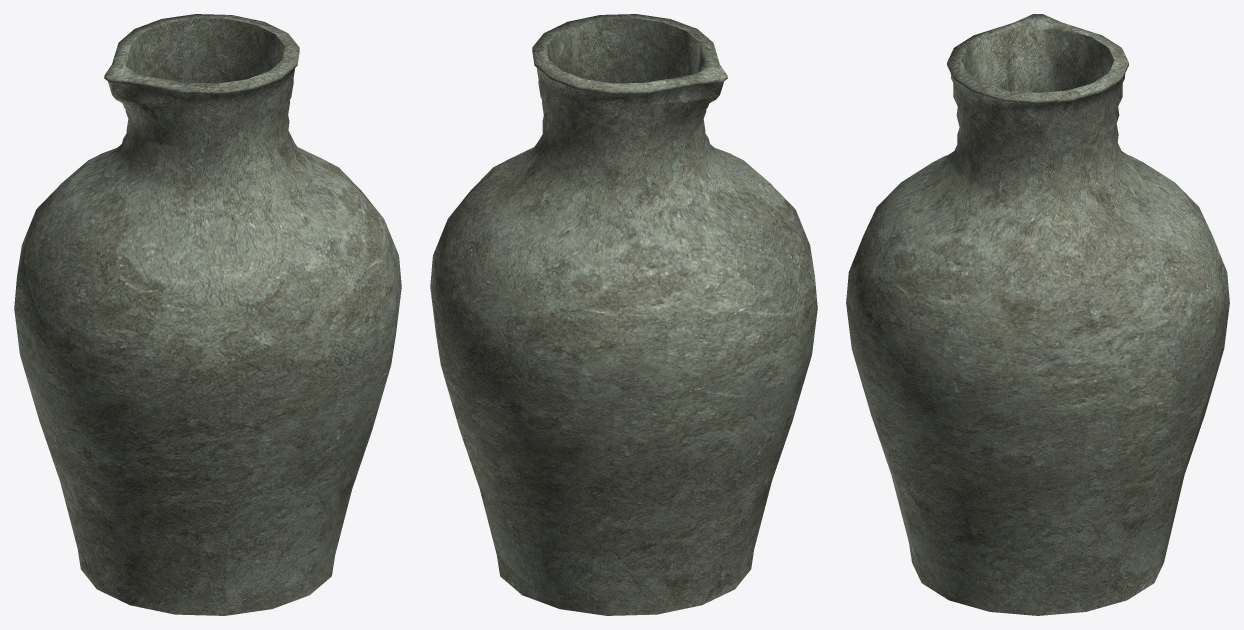
Rendered from Vase 3.FBX.
3 views of the same model, side by side, from view 1: azimuth 30°, elevation 25°; view 2: azimuth 150°, elevation 25°; view 3: azimuth 270°, elevation 25° (orthographic).
Parts seen in each view (by area): view 1: vase 3; view 2: vase 3; view 3: vase 3.
Part boxes in pixels (x1,y1,x2,y2): vase 3: (14, 14, 401, 615); vase 3: (430, 14, 817, 615); vase 3: (846, 14, 1229, 615).
Bounding box in the file's own units: 25.87 × 37.34 × 25.87.
1 material, 1 textured.
